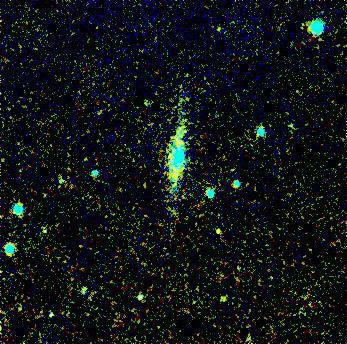star: (202, 215, 232, 245)
